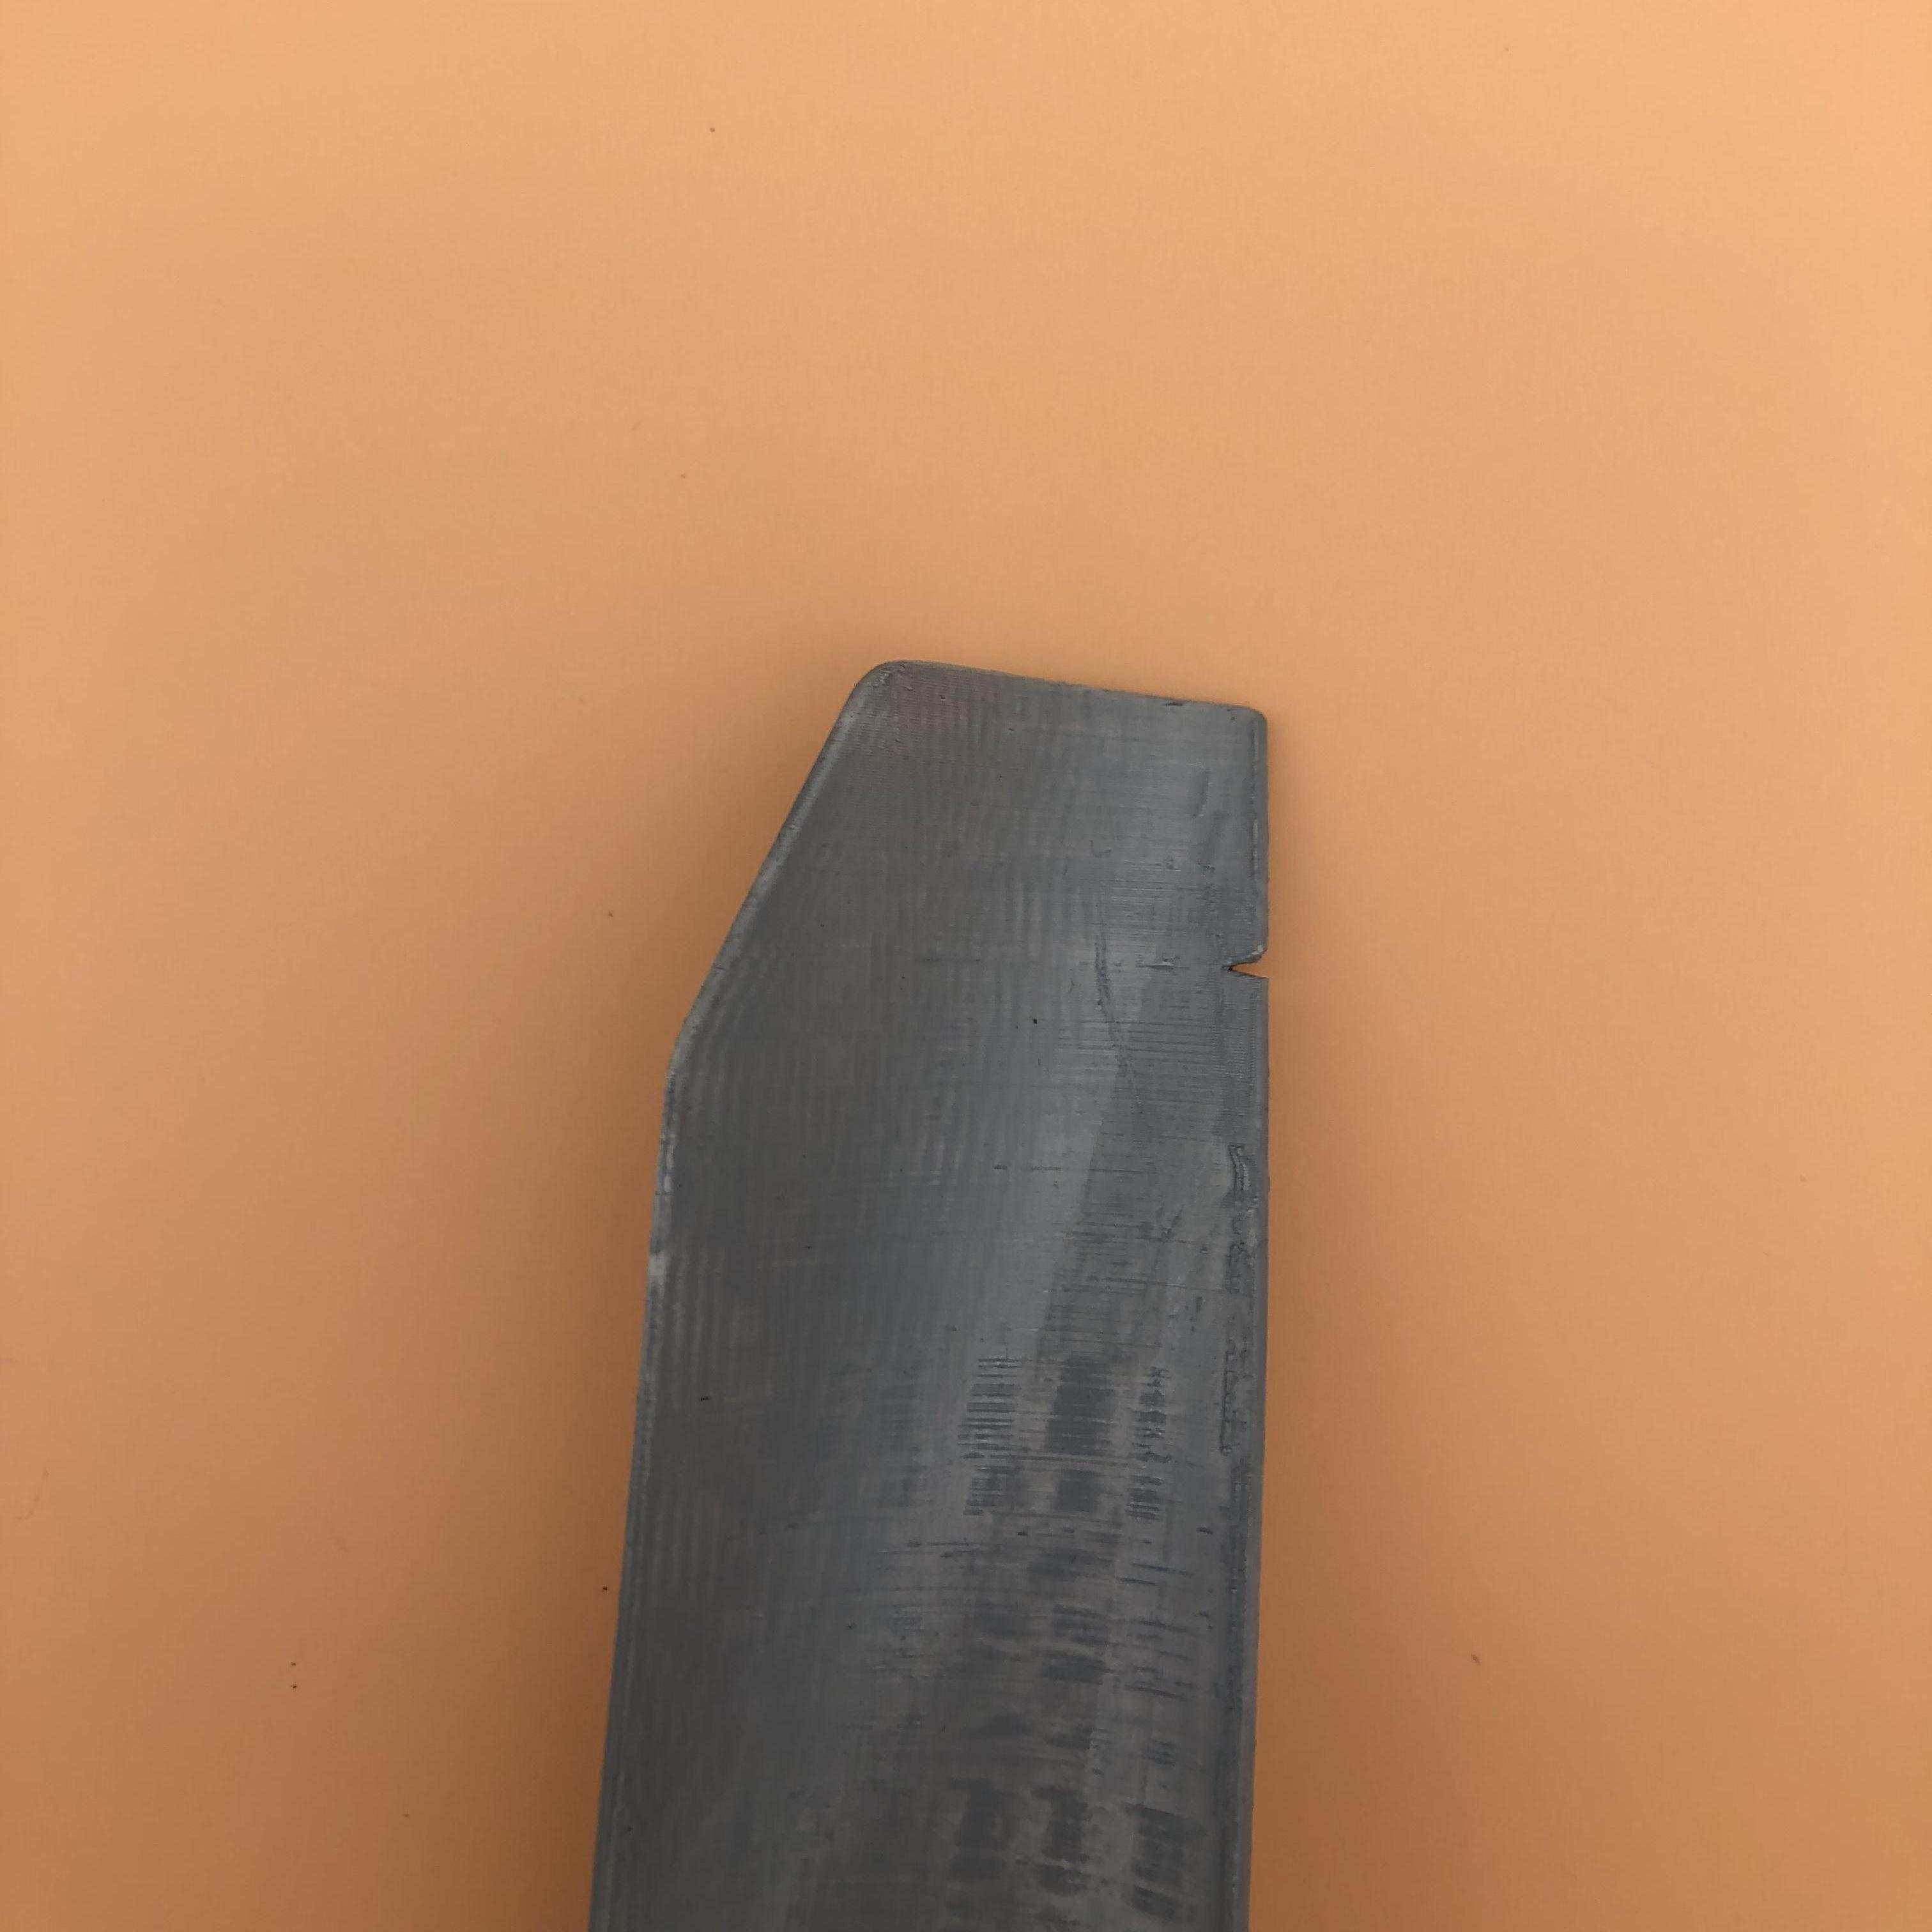groove: (1221, 932, 1276, 989)
